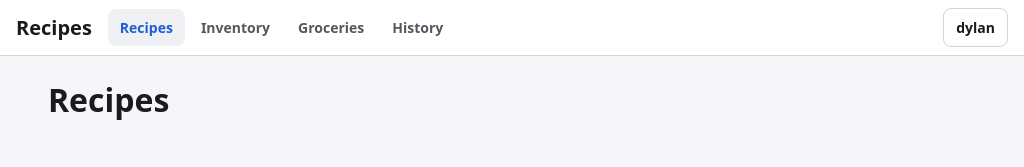
Test: AppShell › shows the username and opens the user menu, moving focus to the first item
This screenshot has width=1024, height=167.
Click the button "dylan". click: (976, 28)
box: [943,8,1008,47]
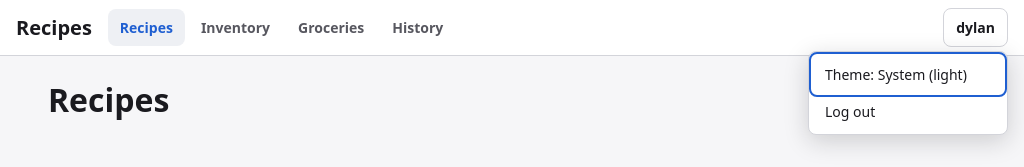
Check: the button "Log out" is shown, box [813,93,1003,130]
